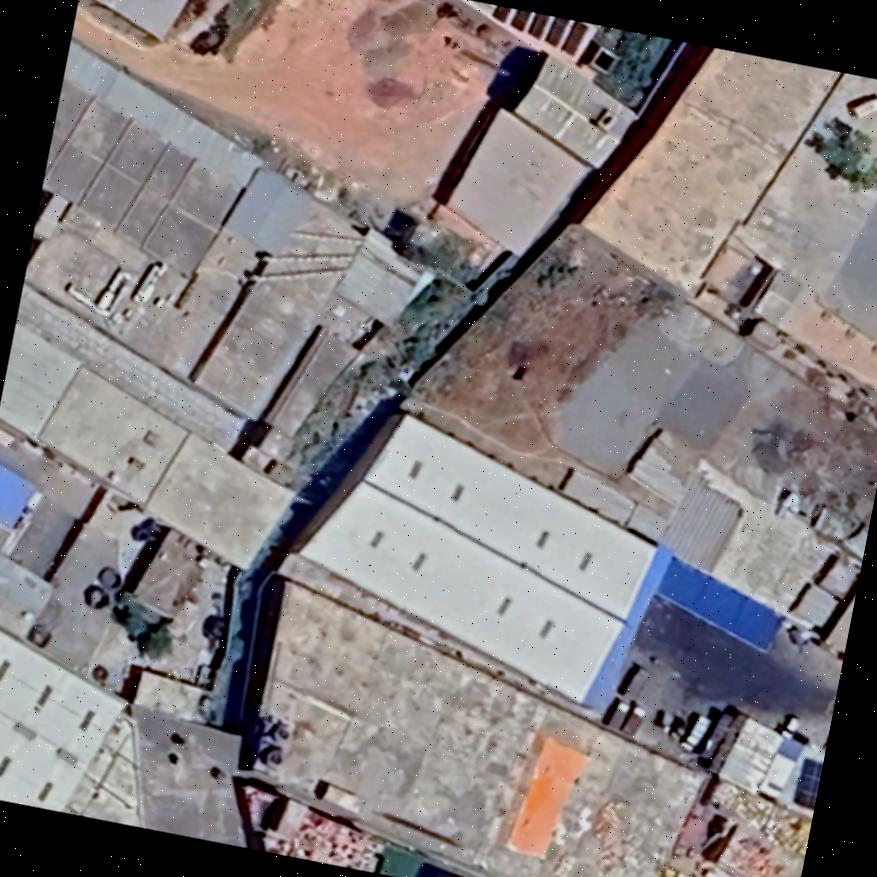Solarpanel: (487, 5, 593, 60), (788, 753, 822, 811)
